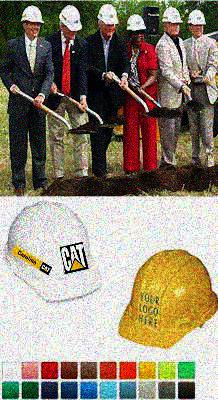helmet: (95, 2, 120, 38), (58, 3, 82, 38), (20, 4, 44, 39), (162, 5, 183, 36), (127, 13, 146, 44), (188, 9, 208, 38)
